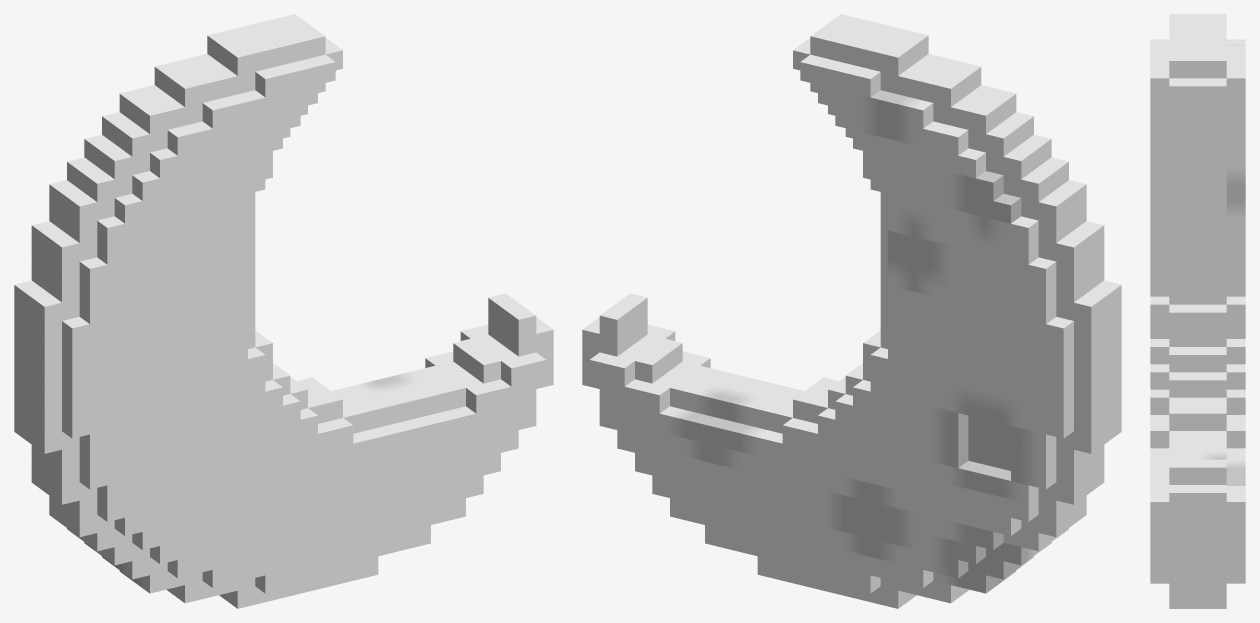
File: voxmoon.fbx
The picture shows the model from 3 angles, left to right: view 1: azimuth 30°, elevation 25°; view 2: azimuth 150°, elevation 25°; view 3: azimuth 270°, elevation 25°; orthographic projection. The views are drawn at different scales.
Visible parts, largest first — view 1: Disc; view 2: Disc; view 3: Disc.
Part boxes in pixels (x1,y1,x2,y2): Disc: (14,14,553,608); Disc: (582,14,1121,608); Disc: (1150,14,1245,608).
Bounding box in the file's own units: 29 × 30 × 5.
1 material, 1 textured.
